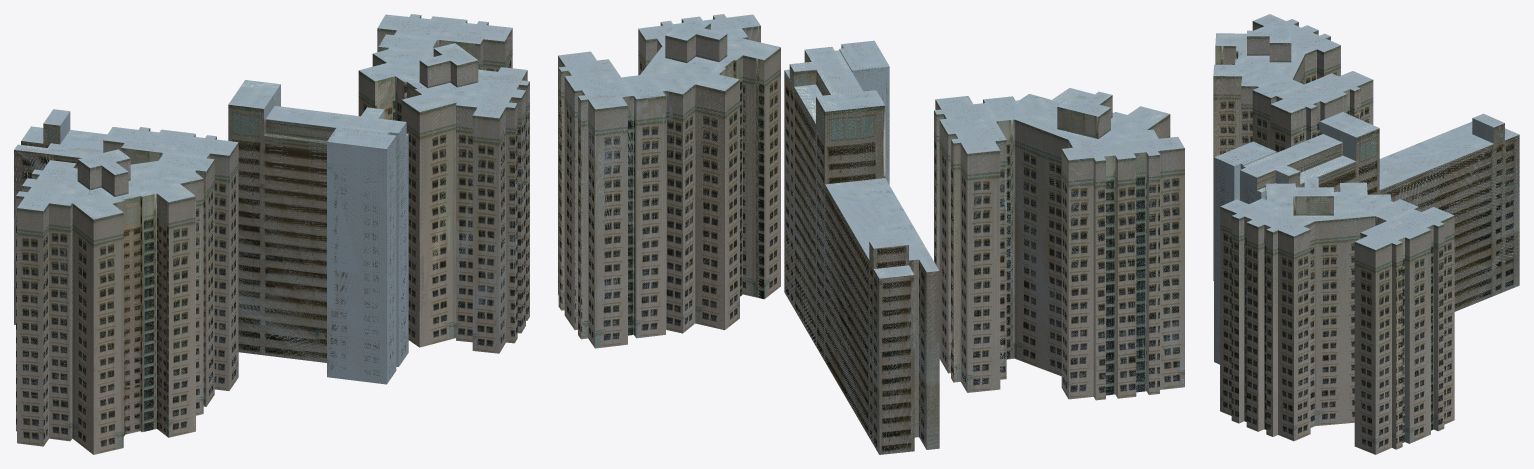
The model's file is 3hdb2.fbx.
3 views of the same model, side by side, from view 1: azimuth 30°, elevation 25°; view 2: azimuth 150°, elevation 25°; view 3: azimuth 270°, elevation 25° (orthographic). The views are drawn at different scales.
Visible parts, largest first — view 1: Group3, Group2, Group4; view 2: Group3, Group4, Group2; view 3: Group4, Group2, Group3.
Part boxes in pixels (<box>): Group3: <box>16,127,238,454</box>; Group2: <box>14,80,408,384</box>; Group4: <box>358,14,529,353</box>; Group3: <box>934,88,1184,400</box>; Group4: <box>558,14,780,348</box>; Group2: <box>784,40,939,454</box>; Group4: <box>1220,177,1454,454</box>; Group2: <box>1214,112,1519,364</box>; Group3: <box>1213,14,1373,280</box>.
Size of the model in its own units: 5651 by 2500 by 3097.
